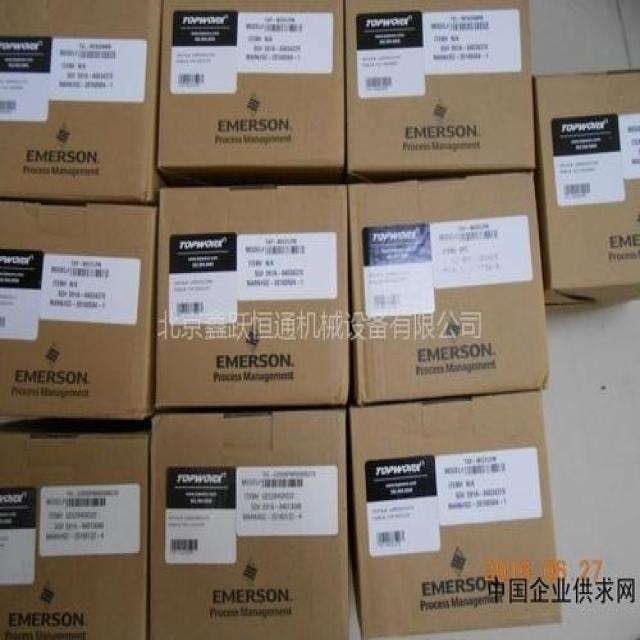box: (347, 394, 563, 633), (348, 167, 548, 403), (148, 408, 348, 640), (152, 184, 351, 411), (0, 198, 157, 428), (157, 2, 347, 186), (347, 0, 534, 183), (0, 0, 161, 203), (0, 425, 150, 638), (534, 68, 640, 316)
